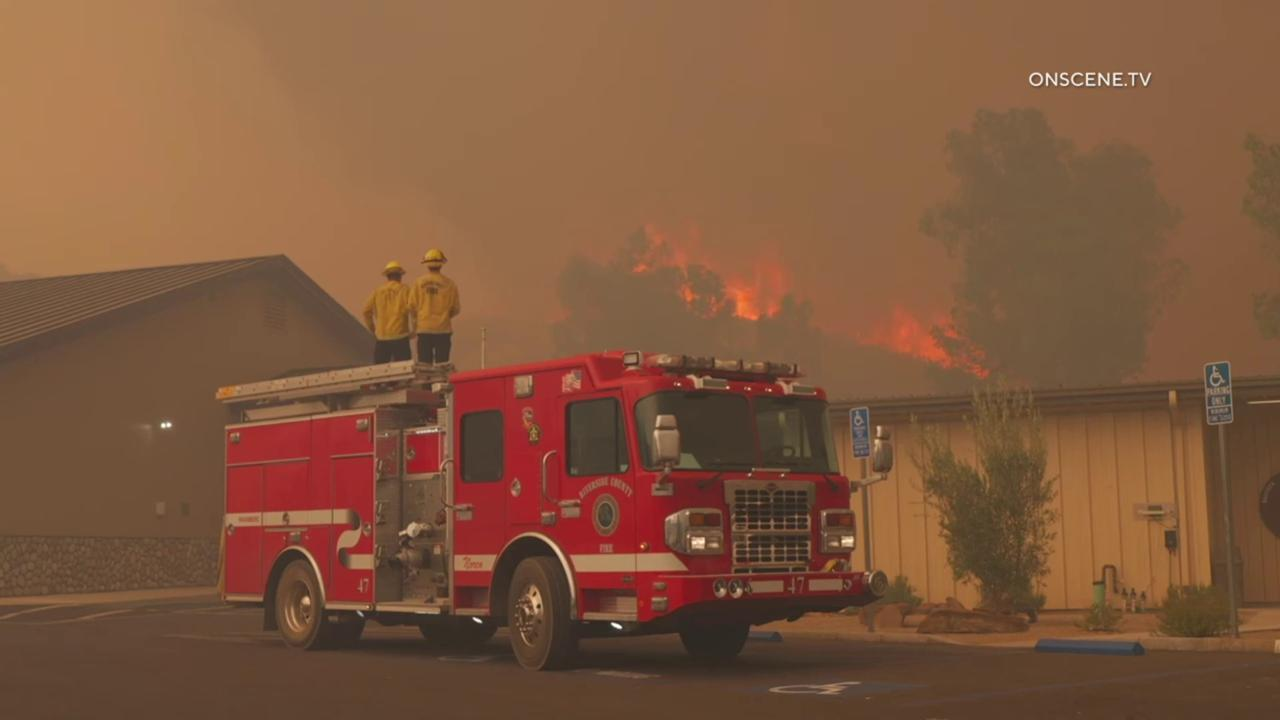fire: (627, 220, 791, 322), (853, 301, 997, 382)
smoke: (0, 0, 1280, 395)
